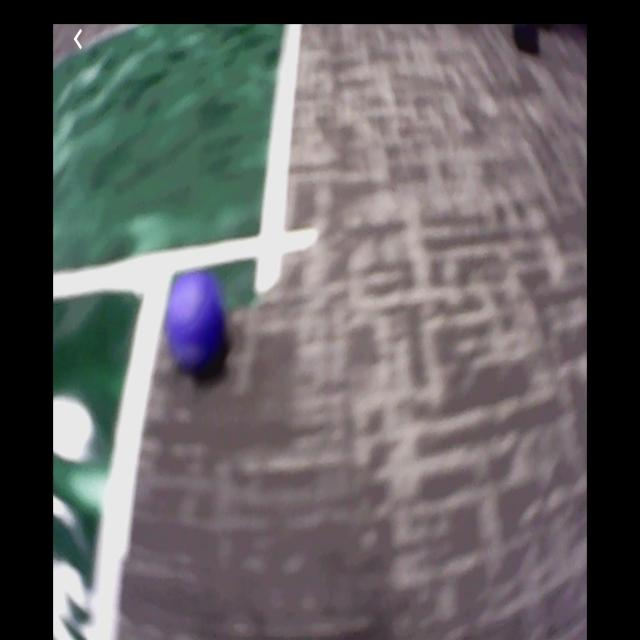ball: (166, 275, 228, 370)
